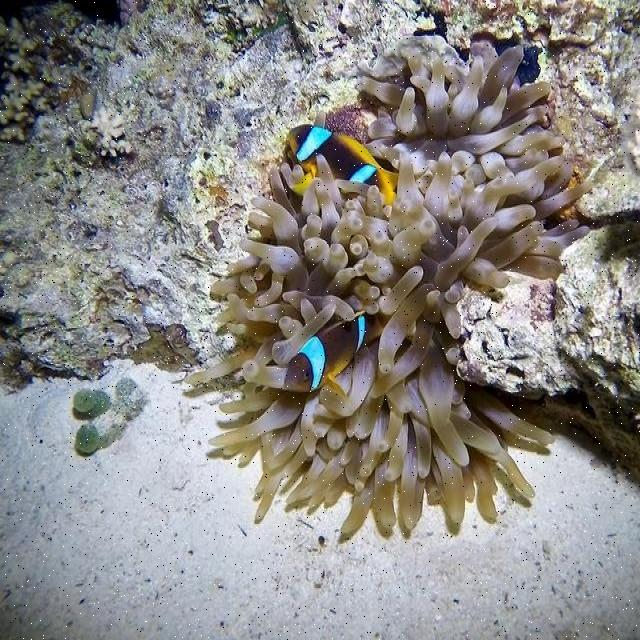fish: (284, 309, 392, 399), (287, 124, 400, 205)
reefs: (184, 34, 593, 533), (72, 377, 150, 453), (132, 324, 199, 372)
